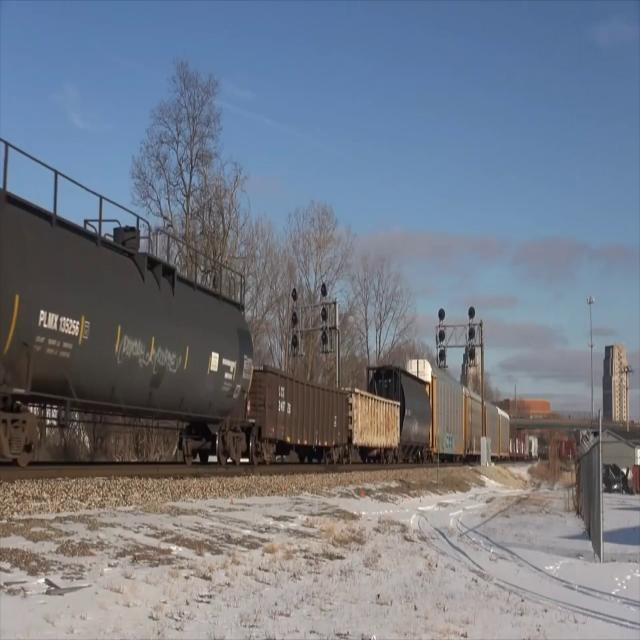autorack: (408, 356, 465, 463)
gondola: (254, 362, 350, 467), (349, 383, 401, 467)
tank: (0, 132, 257, 475), (366, 361, 434, 460)
